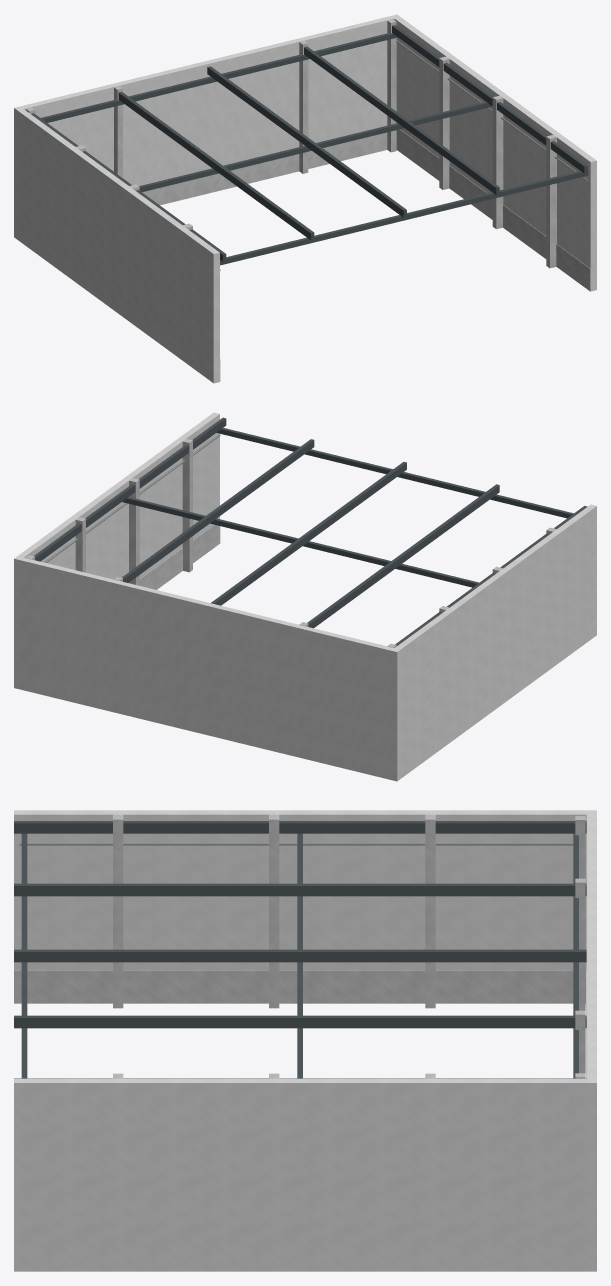
Rendered from walls.glb.
The picture shows the model from 3 angles, top to bottom: view 1: azimuth 30°, elevation 25°; view 2: azimuth 150°, elevation 25°; view 3: azimuth 270°, elevation 25°; orthographic projection. The views are drawn at different scales.
Parts seen in each view (by area): view 1: walls_Plaster, walls_Steel, walls_Teal, walls_Concrete; view 2: walls_Plaster, walls_Steel, walls_Concrete, walls_Teal; view 3: walls_Plaster, walls_Steel, walls_Teal, walls_Concrete, walls_SteelEdge.
Boxes of the visible parts, x1,y1,x2,y2 form: walls_Plaster: (14,14,596,383); walls_Steel: (31,25,588,265); walls_Teal: (142,129,590,381); walls_Concrete: (26,19,556,268); walls_Plaster: (14,412,596,781); walls_Steel: (34,417,587,645); walls_Concrete: (26,439,556,647); walls_Teal: (139,524,220,589); walls_Plaster: (14,810,596,1271); walls_Steel: (14,821,586,1078); walls_Teal: (14,970,586,1078); walls_Concrete: (113,814,585,1078); walls_SteelEdge: (19,842,573,845).
Bounding box in the file's own units: 24.8 × 8 × 22.4.
5 materials, 3 textured.
